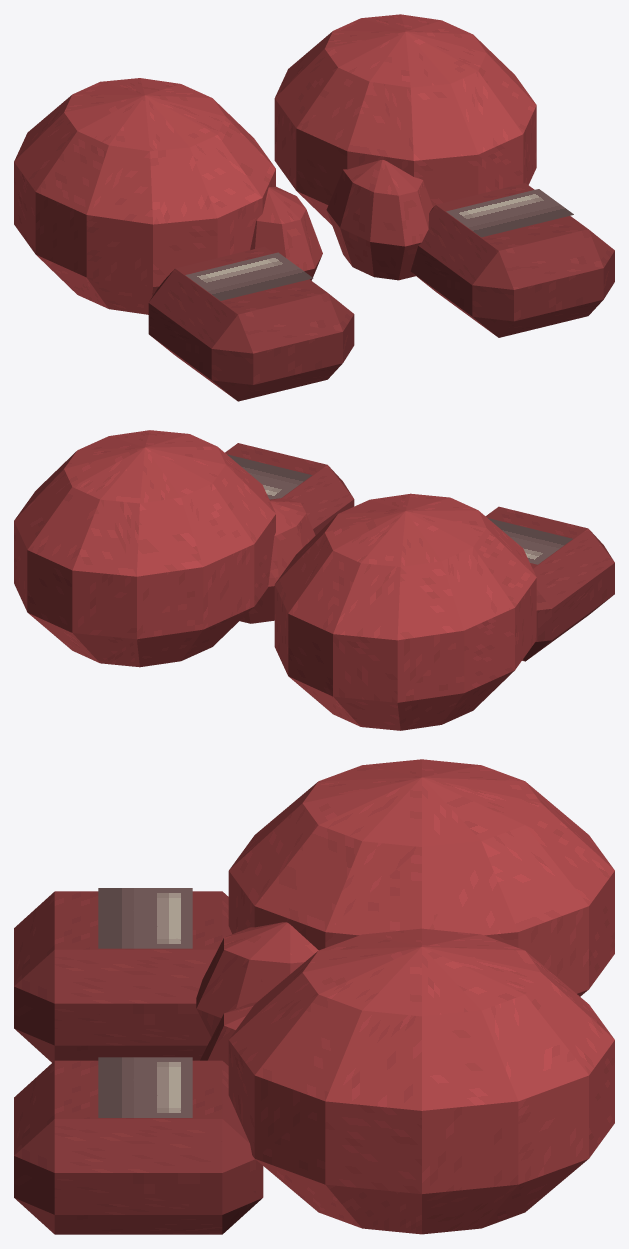
Rendered from boxing_gloves.glb.
3 views of the same model, one above another, from view 1: azimuth 30°, elevation 25°; view 2: azimuth 150°, elevation 25°; view 3: azimuth 270°, elevation 25° (orthographic). The views are drawn at different scales.
Visible parts, largest first — view 1: block_padded leather fist (×2), block_wrist closure (×2), block_padded thumb (×2), block_white wrist mark (×2); view 2: block_padded leather fist (×2), block_wrist closure (×2), block_padded thumb, block_white wrist mark (×2); view 3: block_padded leather fist (×2), block_wrist closure (×2), block_white wrist mark (×2), block_padded thumb (×2).
Part boxes in pixels (<box>): block_padded leather fist (×2): <box>14,14,536,314</box>; block_wrist closure (×2): <box>148,183,614,401</box>; block_padded thumb (×2): <box>250,160,432,280</box>; block_white wrist mark (×2): <box>185,189,573,300</box>; block_padded leather fist (×2): <box>14,430,536,730</box>; block_wrist closure (×2): <box>225,443,614,661</box>; block_padded thumb: <box>240,498,315,623</box>; block_white wrist mark (×2): <box>227,454,572,564</box>; block_padded leather fist (×2): <box>228,759,614,1234</box>; block_wrist closure (×2): <box>14,891,263,1234</box>; block_white wrist mark (×2): <box>98,888,192,1117</box>; block_padded thumb (×2): <box>196,922,318,1065</box>.
Bounding box in the file's own units: 0.31 × 0.1251 × 0.2528.
Materials: 1 (1 with a texture image).
